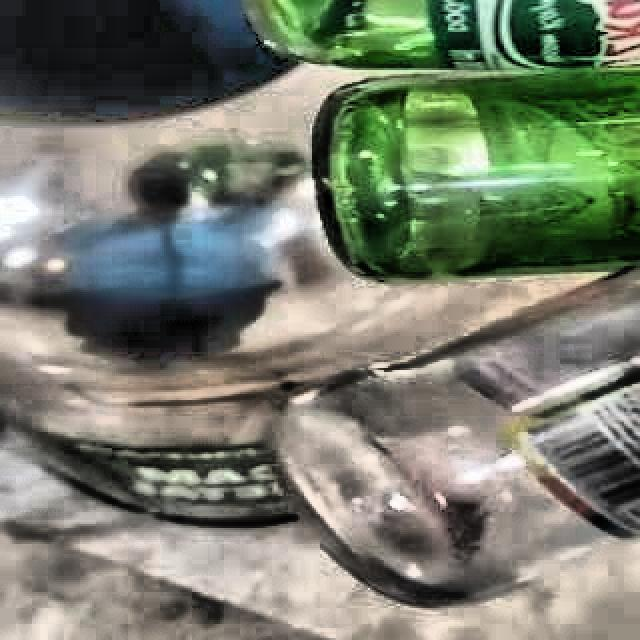glass: (252, 0, 640, 281)
